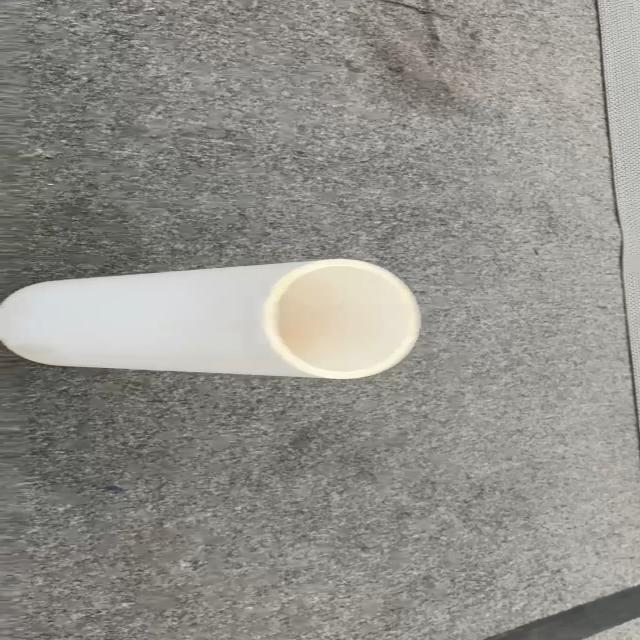coral: (1, 256, 422, 380)
